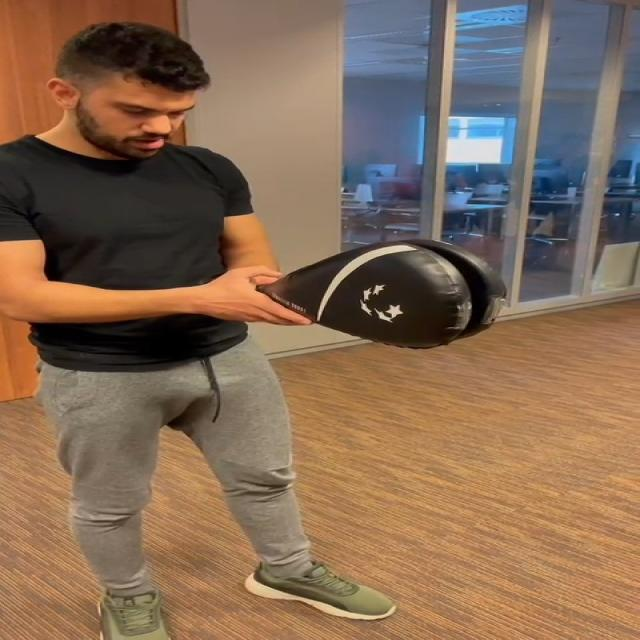paddle: (265, 245, 505, 343)
